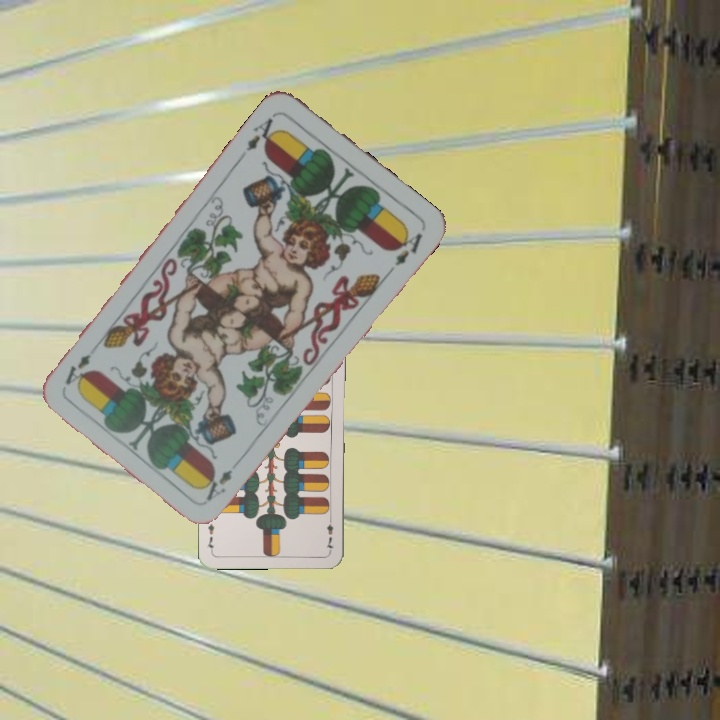E7: (322, 512, 336, 552)
EA: (242, 113, 283, 154), (198, 465, 235, 504)
